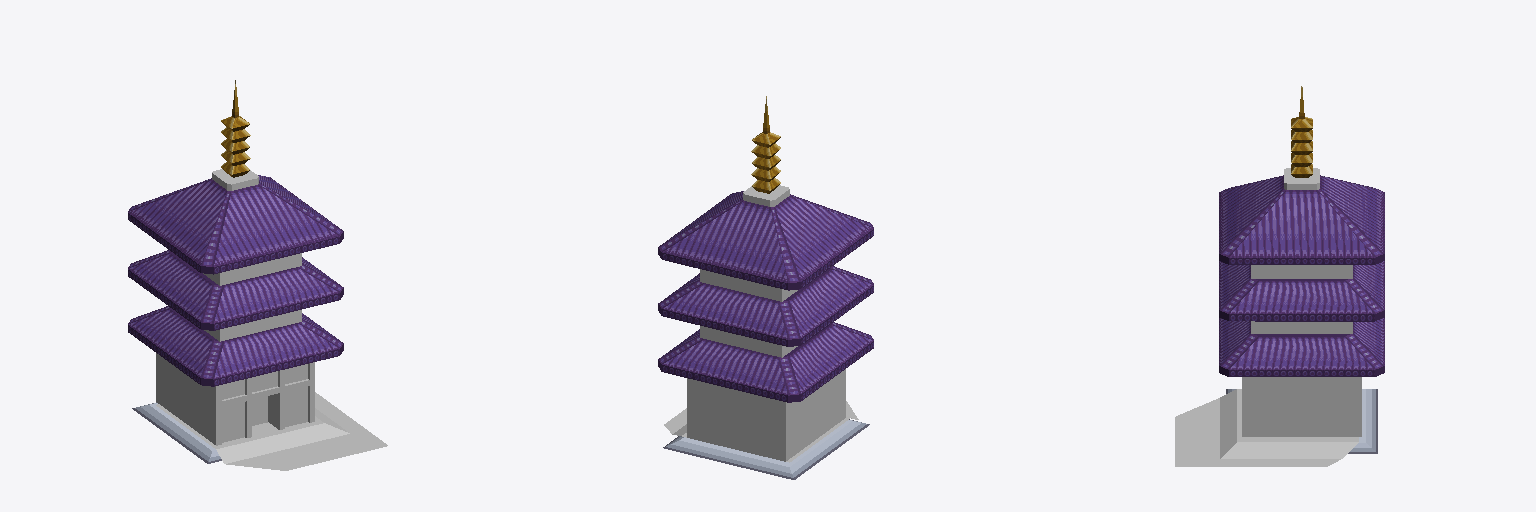
The picture shows the model from 3 angles: view 1: azimuth 30°, elevation 25°; view 2: azimuth 150°, elevation 25°; view 3: azimuth 270°, elevation 25°; orthographic projection.
Visible parts, largest first — view 1: polygon3, polygon4, polygon0, polygon1, polygon2; view 2: polygon3, polygon4, polygon1, polygon2, polygon0; view 3: polygon3, polygon4, polygon0, polygon2, polygon1.
Part boxes in pixels (left/top/right/bottom): polygon3: left=128, top=175, right=343, bottom=386; polygon4: left=156, top=169, right=314, bottom=445; polygon0: left=156, top=392, right=387, bottom=470; polygon1: left=132, top=402, right=221, bottom=463; polygon2: left=221, top=80, right=250, bottom=177; polygon3: left=658, top=191, right=873, bottom=402; polygon4: left=687, top=185, right=845, bottom=461; polygon1: left=663, top=419, right=869, bottom=479; polygon2: left=751, top=96, right=780, bottom=193; polygon0: left=664, top=401, right=858, bottom=462; polygon3: left=1219, top=175, right=1384, bottom=376; polygon4: left=1242, top=168, right=1361, bottom=436; polygon0: left=1175, top=389, right=1358, bottom=466; polygon2: left=1291, top=86, right=1312, bottom=177; polygon1: left=1226, top=389, right=1377, bottom=453.
Size of the model in its own units: 118 by 238 by 132.
Materials: 5 (3 with a texture image).